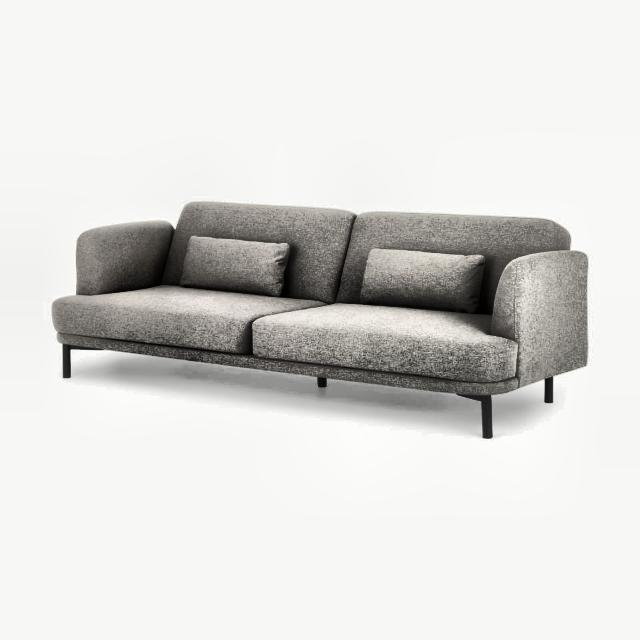sofa: (51, 201, 591, 439)
